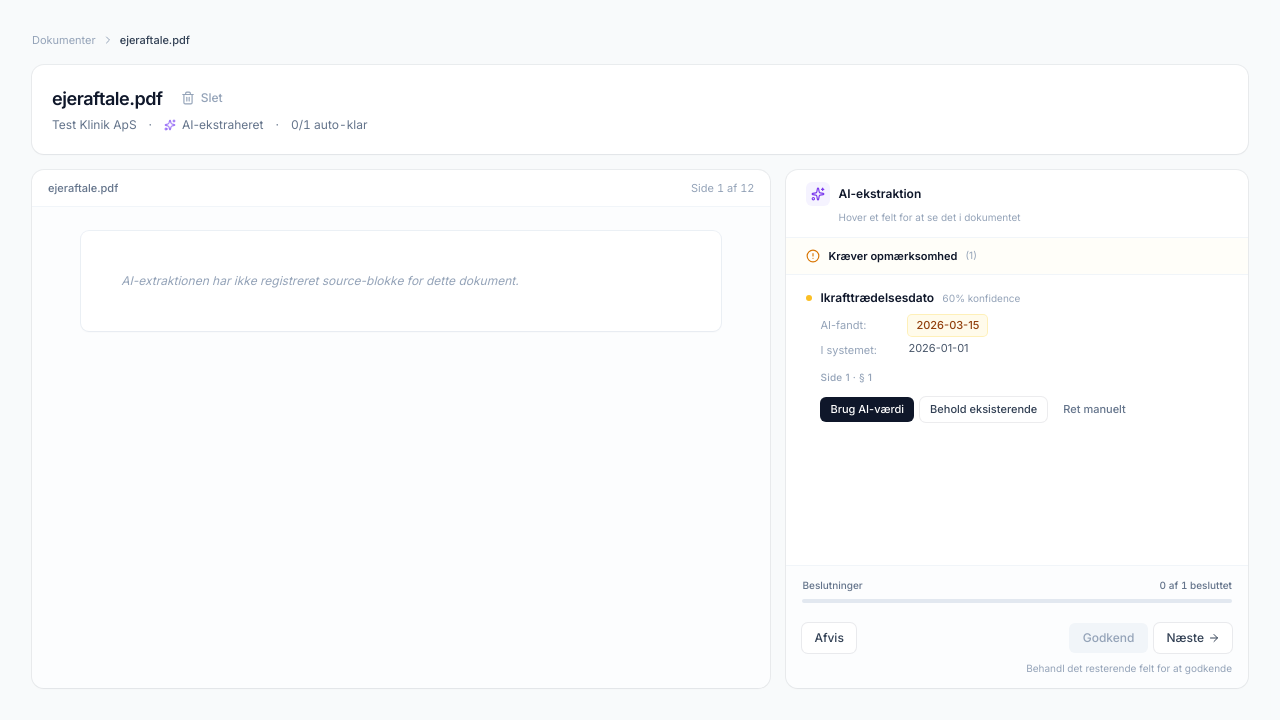
Test case: ReviewClient › Escape i textarea lukker rejection-dialog
Click the button "Afvis".
click(829, 638)  # box [802,623,856,653]
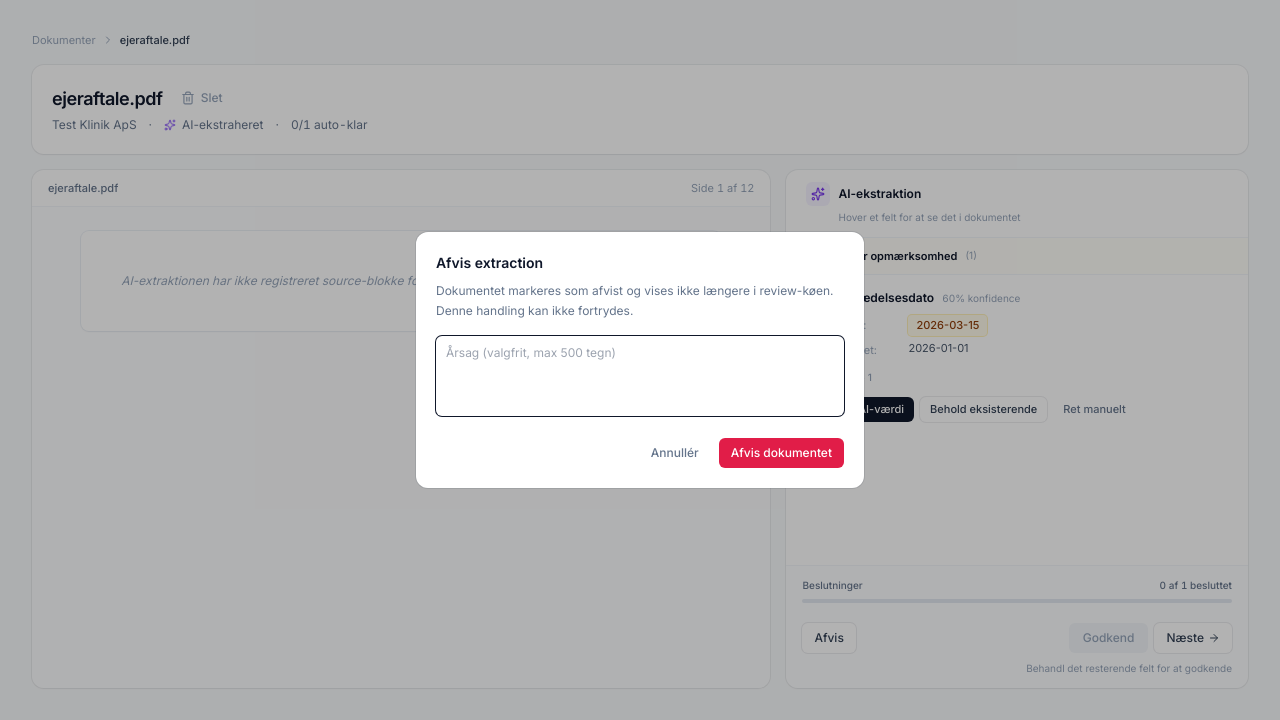
Press Escape in the text box with placeholder "Årsag (valgfrit, max 500 tegn)", box [436,336,844,416]
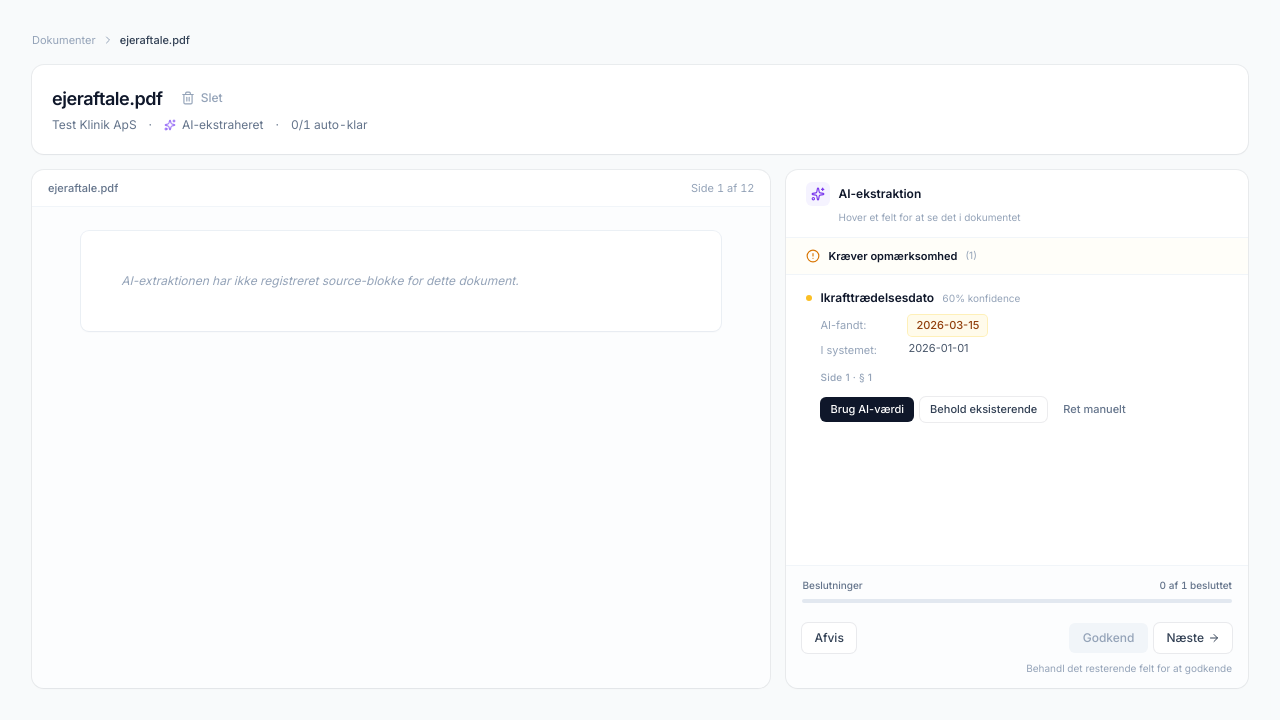
Expected: the dialog is gone
